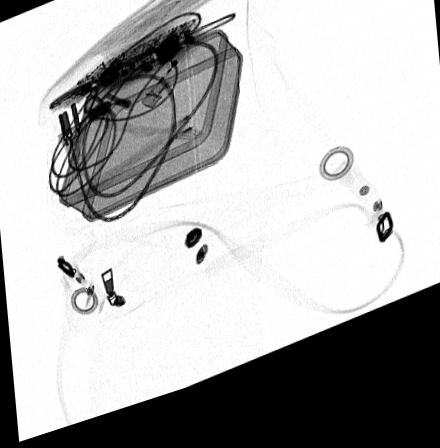Lighter: (138, 38, 207, 118)
